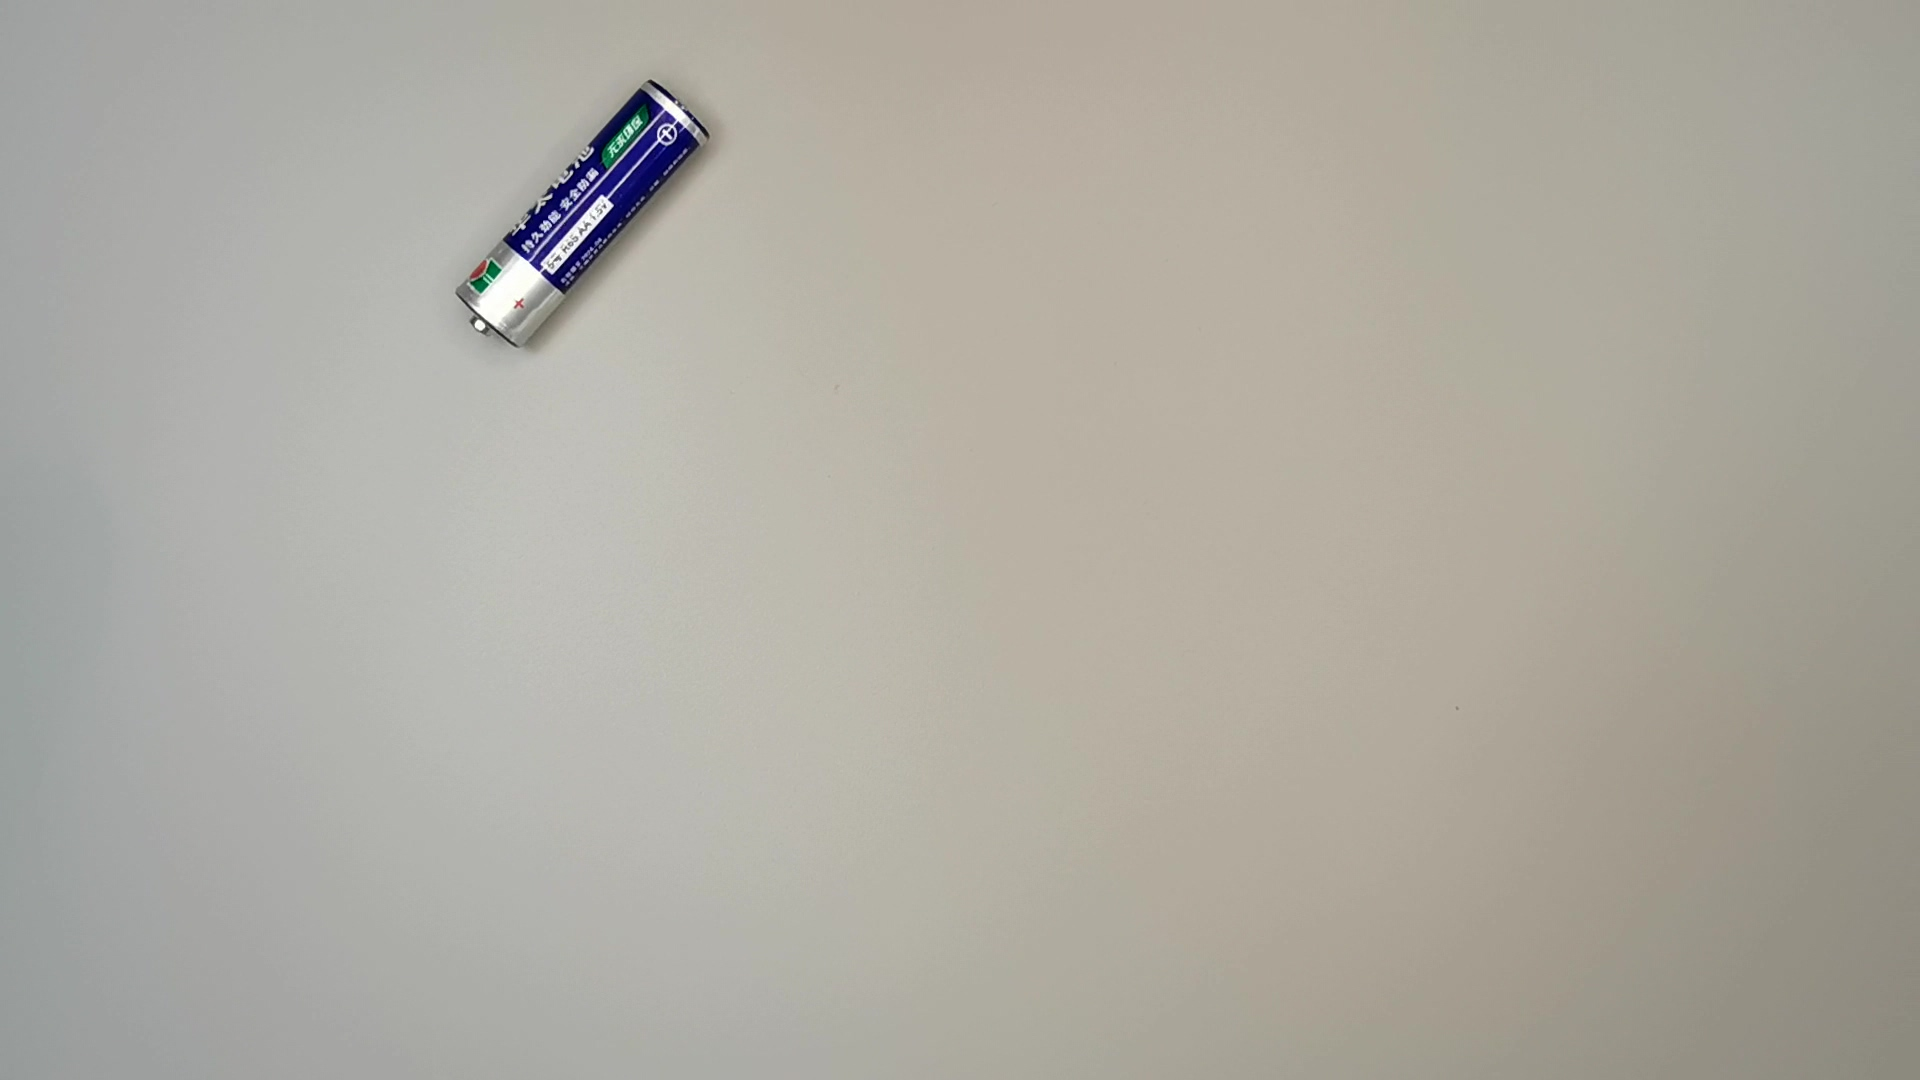battery: (448, 71, 719, 352)
